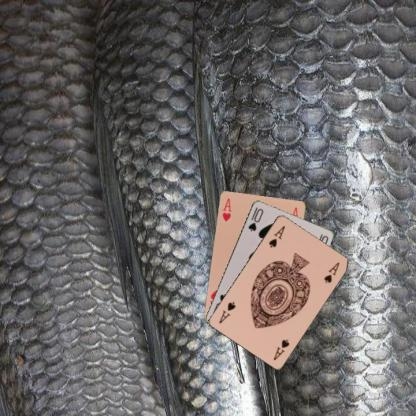10s: (246, 204, 264, 232)
Ah: (220, 196, 232, 223)
As: (266, 222, 286, 249), (270, 336, 290, 362)
